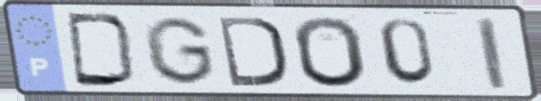0: (374, 17, 437, 88)
D: (62, 11, 140, 90), (214, 14, 290, 89)
G: (140, 14, 219, 87)
I: (473, 15, 511, 92)
O: (290, 14, 370, 90)
